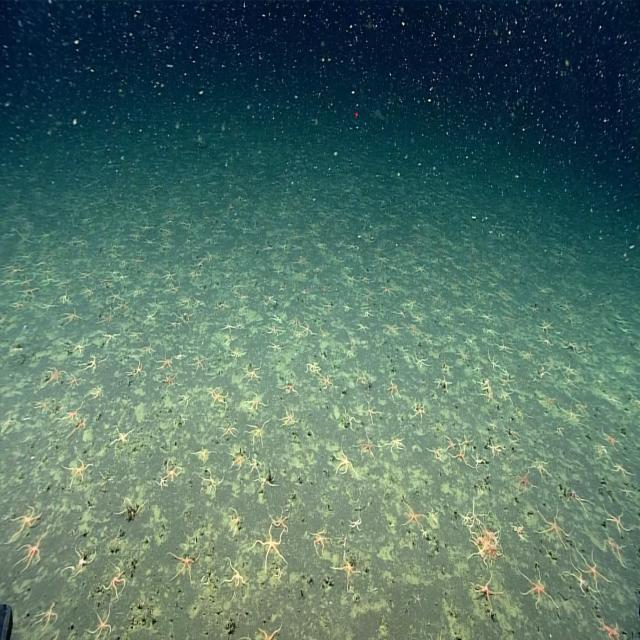brittle-stars: (452, 516, 507, 569), (532, 494, 574, 554), (157, 539, 210, 586), (513, 562, 559, 616), (247, 523, 292, 578), (215, 609, 291, 640), (57, 536, 101, 588), (466, 569, 510, 619), (8, 529, 52, 578), (1, 497, 45, 546), (576, 537, 614, 593), (326, 550, 367, 600), (100, 554, 140, 605), (563, 553, 601, 605), (79, 598, 123, 640), (28, 588, 64, 636), (397, 495, 432, 543), (218, 555, 254, 601), (58, 451, 95, 494), (109, 489, 154, 523), (588, 605, 630, 640), (599, 500, 633, 540), (605, 522, 629, 572), (444, 435, 474, 475), (222, 505, 256, 540), (195, 466, 228, 502), (564, 482, 596, 519), (309, 522, 338, 562), (329, 449, 362, 484), (244, 412, 274, 449), (558, 392, 592, 424), (107, 419, 142, 450), (159, 454, 188, 488), (0, 395, 20, 444), (458, 500, 492, 527), (242, 385, 272, 415), (509, 466, 540, 495), (266, 505, 295, 536), (599, 420, 626, 453), (248, 471, 281, 498), (214, 412, 243, 442), (509, 516, 536, 548), (278, 399, 305, 431), (350, 434, 384, 459), (235, 359, 268, 384), (274, 371, 303, 399), (345, 504, 370, 536), (40, 362, 72, 387), (203, 382, 229, 412), (56, 398, 87, 423), (406, 582, 430, 614), (530, 452, 556, 481), (418, 441, 448, 466), (609, 453, 636, 480), (68, 413, 93, 442), (333, 410, 364, 433), (230, 442, 250, 477), (406, 396, 430, 425), (384, 373, 406, 404), (124, 358, 150, 384), (67, 330, 93, 356), (78, 352, 107, 374), (165, 312, 195, 333), (386, 432, 412, 456), (349, 366, 372, 392), (151, 350, 178, 372), (0, 258, 31, 277), (184, 253, 212, 274), (362, 398, 382, 427), (191, 442, 215, 466), (492, 331, 516, 355), (173, 386, 197, 410), (225, 279, 251, 301), (187, 352, 214, 373), (540, 390, 561, 417), (81, 382, 109, 402), (59, 304, 87, 324), (141, 301, 164, 325), (432, 372, 457, 394), (314, 376, 340, 397), (99, 326, 125, 347), (477, 377, 497, 404), (126, 248, 150, 270), (303, 357, 328, 378), (158, 371, 185, 390), (157, 263, 181, 284), (78, 278, 99, 302), (422, 619, 446, 640), (341, 232, 361, 257), (15, 282, 41, 301), (526, 366, 553, 384), (224, 344, 248, 364), (532, 317, 556, 337), (74, 260, 98, 280), (456, 298, 480, 318), (344, 262, 361, 290), (485, 436, 504, 461), (34, 296, 59, 315), (404, 260, 429, 279), (469, 446, 485, 475), (376, 281, 400, 300), (94, 307, 118, 326), (410, 352, 435, 370), (559, 341, 589, 356), (558, 372, 583, 390), (298, 319, 320, 339), (524, 298, 546, 318), (257, 235, 276, 258), (136, 337, 160, 355), (172, 341, 191, 363), (260, 288, 279, 310), (30, 397, 54, 414), (620, 479, 636, 504), (65, 372, 86, 391), (497, 385, 518, 404), (262, 323, 286, 339), (360, 228, 379, 248), (178, 212, 196, 233), (486, 350, 501, 375), (477, 306, 497, 324), (249, 451, 265, 473), (37, 272, 59, 288), (220, 330, 237, 350), (560, 362, 584, 376), (114, 298, 135, 314), (265, 341, 287, 356), (401, 295, 423, 310), (162, 280, 184, 295), (102, 289, 124, 304), (110, 271, 132, 286), (170, 295, 192, 310), (219, 320, 244, 333), (358, 270, 376, 288), (453, 347, 472, 364), (470, 358, 486, 378), (382, 321, 402, 337), (505, 432, 524, 448), (6, 298, 25, 314), (354, 307, 377, 320), (520, 346, 537, 363), (390, 307, 408, 323), (360, 288, 376, 306), (143, 230, 158, 249), (555, 300, 575, 314), (192, 293, 209, 309), (341, 298, 356, 316), (96, 272, 110, 291), (552, 421, 564, 443), (482, 417, 501, 430), (355, 319, 371, 334), (411, 313, 427, 327), (58, 290, 74, 304), (539, 336, 556, 349), (444, 332, 457, 345)
